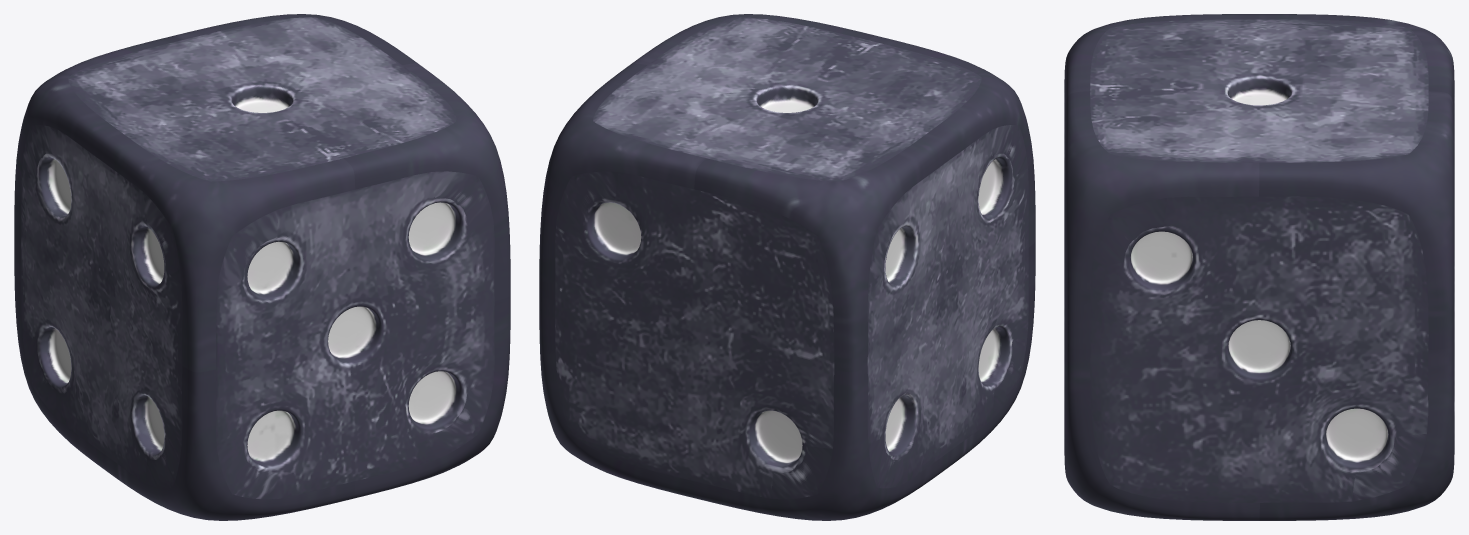
The model's file is diceDark.gltf.
The picture shows the model from 3 angles, left to right: view 1: azimuth 30°, elevation 25°; view 2: azimuth 150°, elevation 25°; view 3: azimuth 270°, elevation 25°; orthographic projection. The views are drawn at different scales.
Visible parts, largest first — view 1: dice; view 2: dice; view 3: dice.
Part boxes in pixels (<box>): dice: <box>14,14,510,520</box>; dice: <box>539,14,1035,520</box>; dice: <box>1064,14,1454,520</box>.
Bounding box in the file's own units: 0.16 × 0.16 × 0.16.
1 material, 1 textured.
